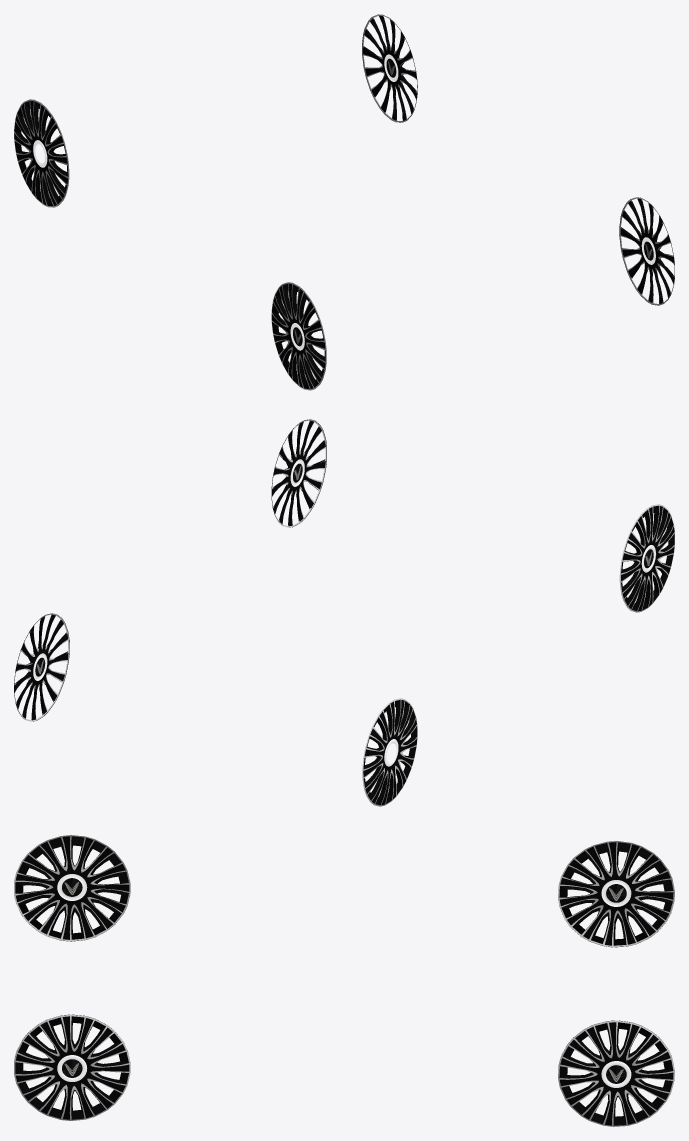
3 renders of one model, top to bottom at view 1: azimuth 30°, elevation 25°; view 2: azimuth 150°, elevation 25°; view 3: azimuth 270°, elevation 25°, orthographic. The views are drawn at different scales.
Visible parts, largest first — view 1: 4; view 2: 4; view 3: 4.
Part boxes in pixels (box(x1,y1,x2,y2)): 4: box(14, 14, 674, 390); 4: box(14, 419, 674, 806); 4: box(14, 835, 674, 1126).
Bounding box in the file's own units: 0.9953 × 0.2853 × 1.53.
Materials: 4 (1 with a texture image).
